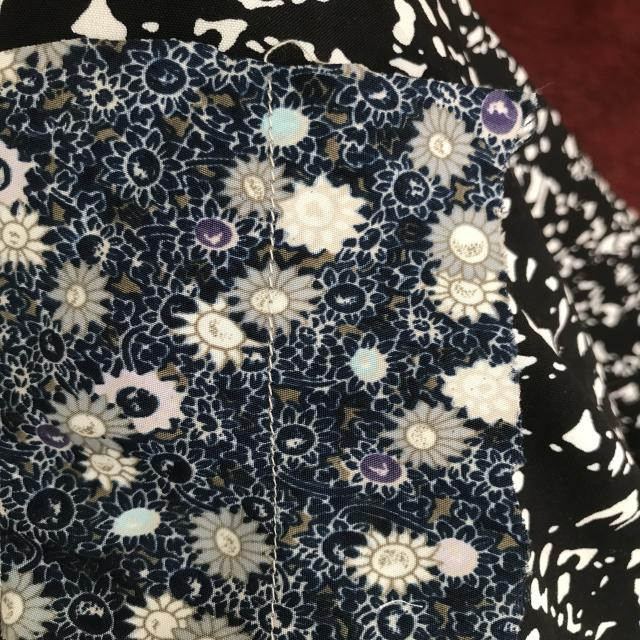good: (256, 358, 297, 538)
